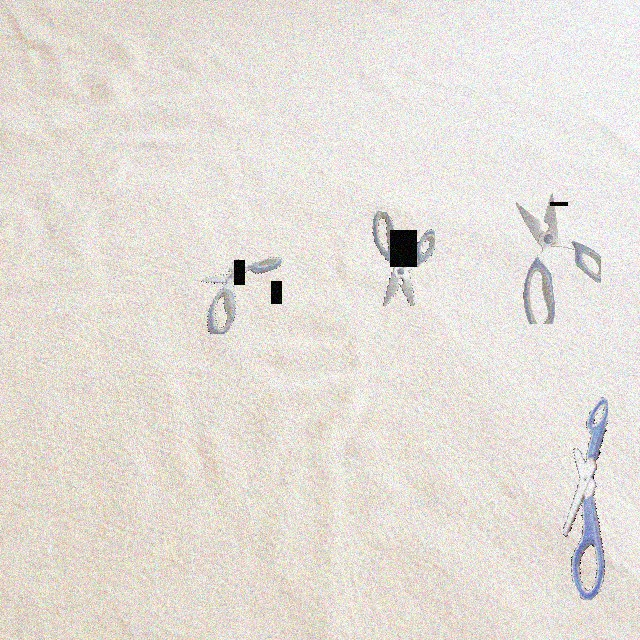scissors: (516, 193, 601, 324), (563, 397, 608, 600), (201, 257, 282, 334), (372, 211, 435, 306)
